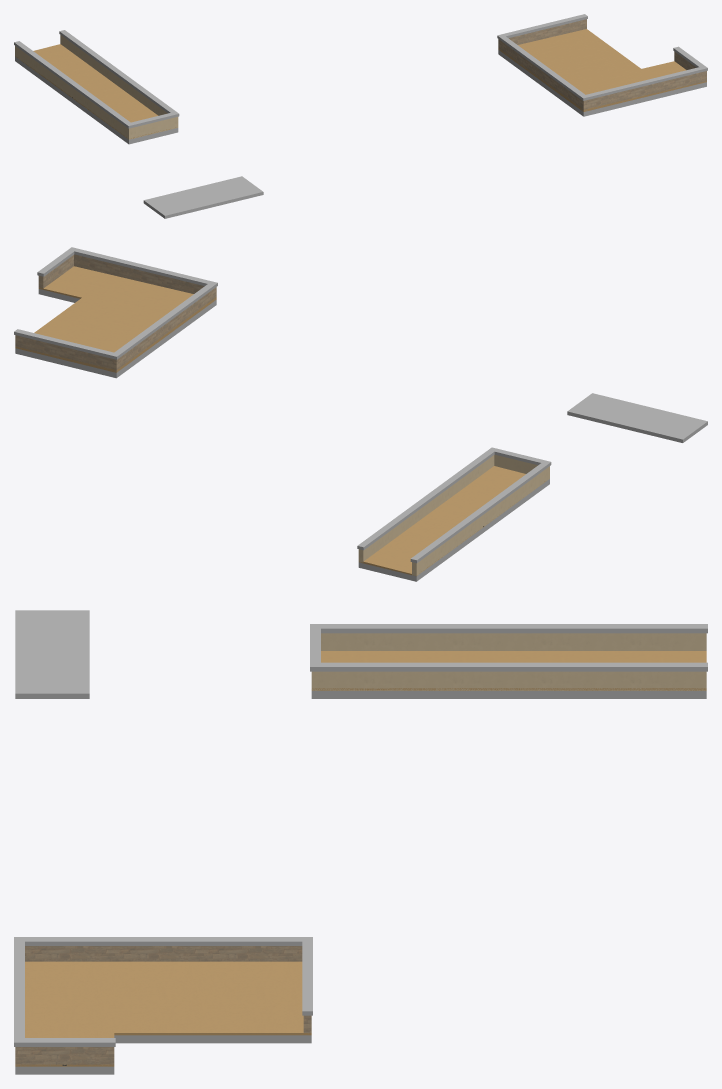
File: roof-bundle-rug-gate.glb
3 renders of one model, top to bottom at view 1: azimuth 30°, elevation 25°; view 2: azimuth 150°, elevation 25°; view 3: azimuth 270°, elevation 25°, orthographic. The views are drawn at different scales.
Parts seen in each view (by area): view 1: ph_bz04_stone_trim_sandstone-cast, bz06_faded_ochre-receive, bz06_service_stone-cast, bz06_cream_plaster-cast; view 2: bz06_faded_ochre-receive, ph_bz04_stone_trim_sandstone-cast, bz06_service_stone-cast, bz06_cream_plaster-cast; view 3: bz06_faded_ochre-receive, ph_bz04_stone_trim_sandstone-cast, bz06_cream_plaster-cast, bz06_service_stone-cast.
Part boxes in pixels (x1,y1,x2,y2): ph_bz04_stone_trim_sandstone-cast: [14, 14, 707, 218]; bz06_faded_ochre-receive: [15, 29, 706, 138]; bz06_service_stone-cast: [498, 19, 706, 111]; bz06_cream_plaster-cast: [15, 35, 178, 139]; bz06_faded_ochre-receive: [15, 266, 545, 576]; ph_bz04_stone_trim_sandstone-cast: [14, 247, 707, 581]; bz06_service_stone-cast: [15, 254, 216, 371]; bz06_cream_plaster-cast: [358, 454, 549, 575]; bz06_faded_ochre-receive: [15, 651, 706, 1066]; ph_bz04_stone_trim_sandstone-cast: [14, 610, 707, 1074]; bz06_cream_plaster-cast: [311, 633, 706, 690]; bz06_service_stone-cast: [15, 946, 311, 1066].
Bounding box in the file's own units: 22.03 × 0.73 × 14.06.
Materials: 5 (4 with a texture image).
